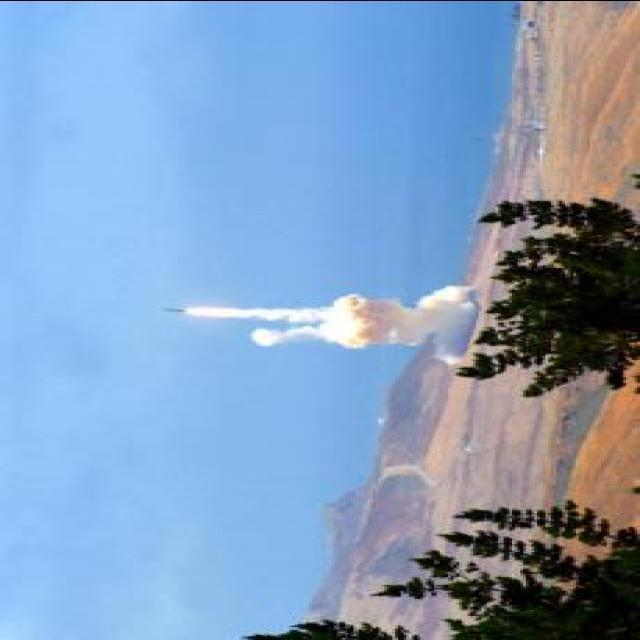missile: (159, 302, 188, 322)
